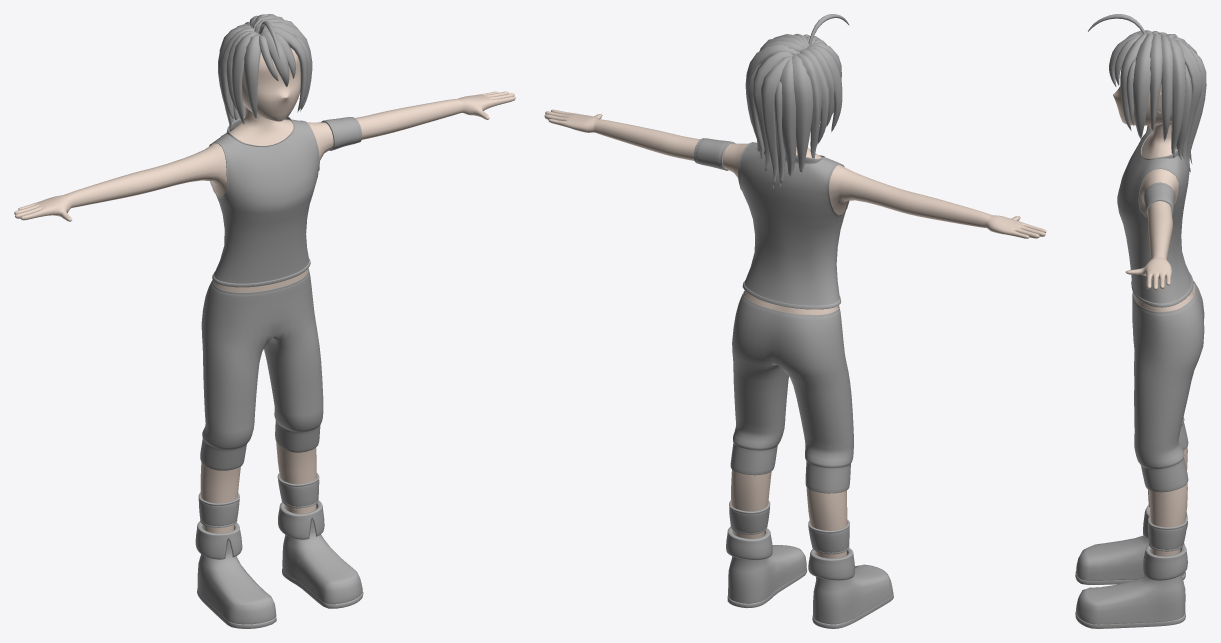
Rendered from asche_test.fbx.
3 views of the same model, side by side, from view 1: azimuth 30°, elevation 25°; view 2: azimuth 150°, elevation 25°; view 3: azimuth 270°, elevation 25° (orthographic).
Visible parts, largest first — view 1: pants, asche, outfit, bootsv2, hair1, legbelt, armbelt; view 2: pants, outfit, asche, hair1, bootsv2, legbelt, armbelt; view 3: pants, bootsv2, hair1, asche, outfit, legbelt, armbelt.
Boxes of the visible parts, <box> form: pants: <box>200,268,323,470</box>; asche: <box>14,48,515,533</box>; outfit: <box>209,116,319,287</box>; bootsv2: <box>195,500,363,628</box>; hair1: <box>218,14,312,131</box>; legbelt: <box>198,473,319,527</box>; armbelt: <box>321,117,362,150</box>; pants: <box>730,291,853,493</box>; outfit: <box>738,142,849,309</box>; asche: <box>544,109,1046,558</box>; hair1: <box>745,14,849,188</box>; bootsv2: <box>726,527,893,628</box>; legbelt: <box>729,500,849,554</box>; armbelt: <box>694,138,734,170</box>; pants: <box>1132,281,1204,492</box>; bootsv2: <box>1075,505,1187,628</box>; hair1: <box>1088,14,1206,172</box>; asche: <box>1113,84,1194,556</box>; outfit: <box>1117,128,1193,307</box>; legbelt: <box>1148,489,1187,551</box>; armbelt: <box>1143,182,1174,217</box>.
Bounding box in the file's own units: 19.04 × 21.14 × 4.36.
